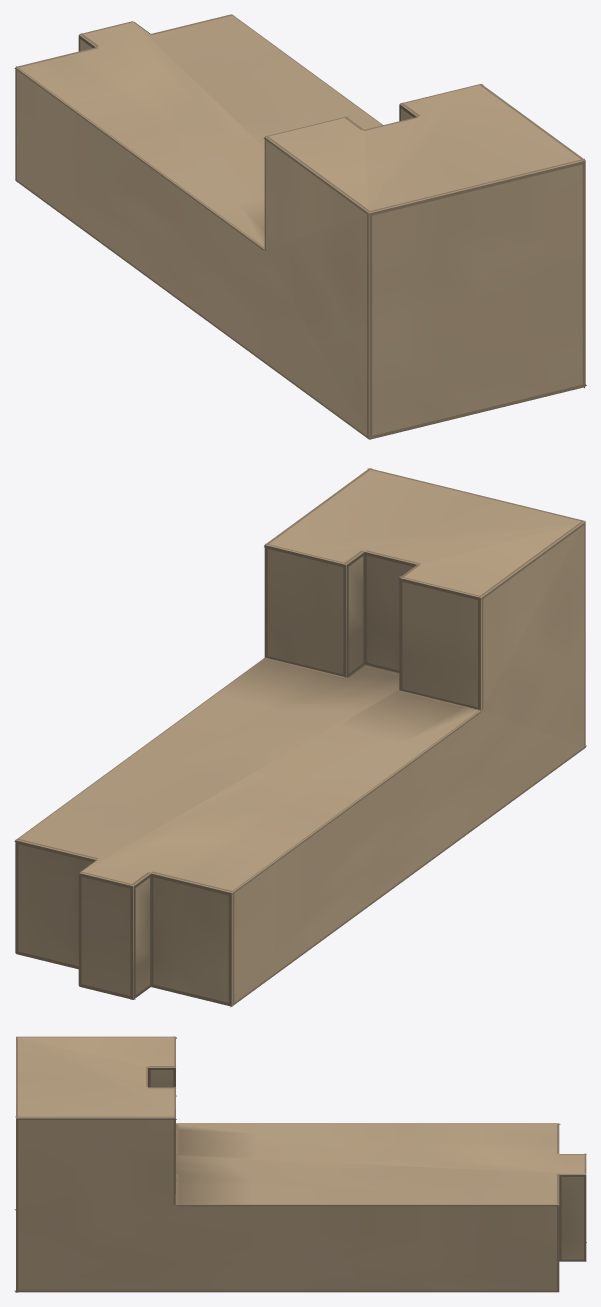
3 renders of one model, top to bottom at view 1: azimuth 30°, elevation 25°; view 2: azimuth 150°, elevation 25°; view 3: azimuth 270°, elevation 25°, orthographic. The views are drawn at different scales.
Parts seen in each view (by area): view 1: part-a; view 2: part-a; view 3: part-a.
Boxes of the visible parts, x1=… form: part-a: x1=14, y1=14, x2=586, y2=439; part-a: x1=14, y1=468, x2=586, y2=1007; part-a: x1=14, y1=1036, x2=586, y2=1292.
Size of the model in its own units: 0.1212 by 0.1208 by 0.3588.
